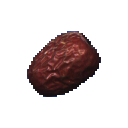gd: (13, 22, 119, 110)
